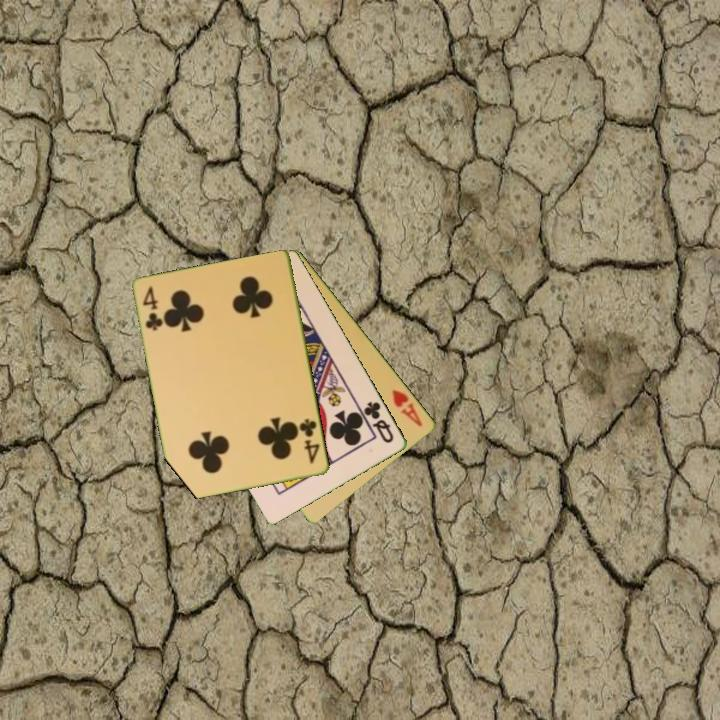4c: (296, 415, 323, 467), (140, 282, 165, 334)
Ah: (389, 386, 426, 430)
Qc: (360, 398, 397, 446)
